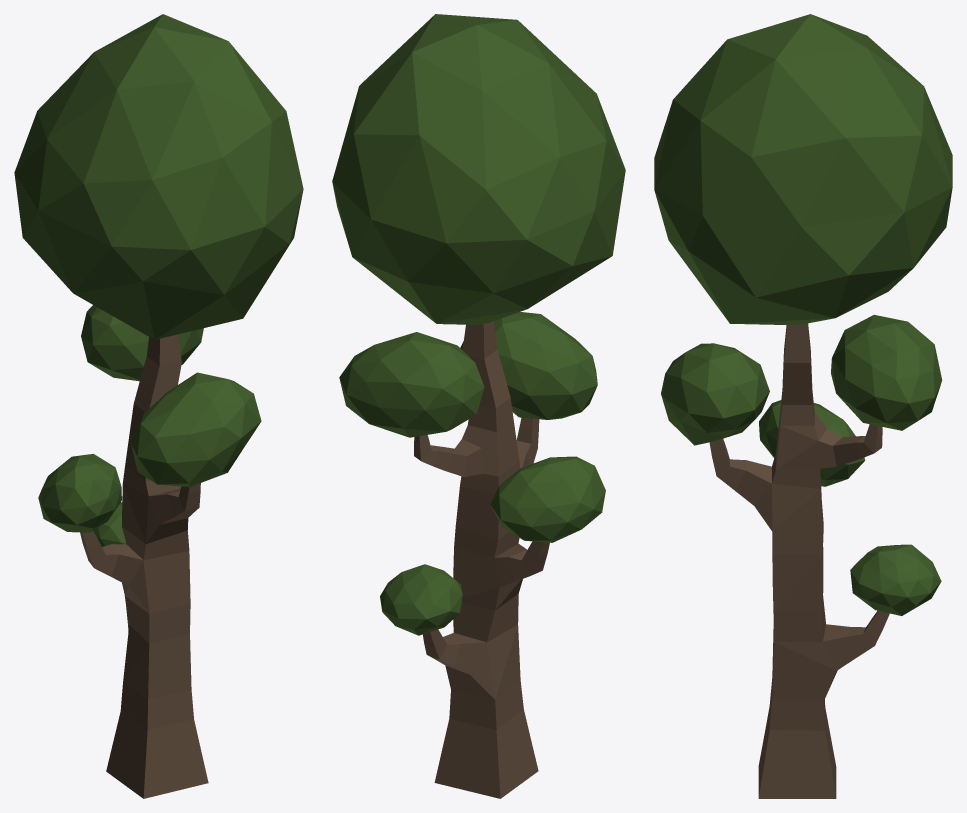
Rendered from SequoiaTree2.fbx.
The picture shows the model from 3 angles, left to right: view 1: azimuth 30°, elevation 25°; view 2: azimuth 150°, elevation 25°; view 3: azimuth 270°, elevation 25°; orthographic projection. The views are drawn at different scales.
Parts seen in each view (by area): view 1: SequoiaTree2Foliage, SequoiaTree2; view 2: SequoiaTree2Foliage, SequoiaTree2; view 3: SequoiaTree2Foliage, SequoiaTree2.
Boxes of the visible parts, x1,y1,x2,y2 form: SequoiaTree2Foliage: (14,14,303,546); SequoiaTree2: (80,334,208,798); SequoiaTree2Foliage: (332,14,625,635); SequoiaTree2: (414,321,549,798); SequoiaTree2Foliage: (654,14,952,615); SequoiaTree2: (709,323,889,798).
Bounding box in the file's own units: 4.53 × 13.71 × 4.82.
